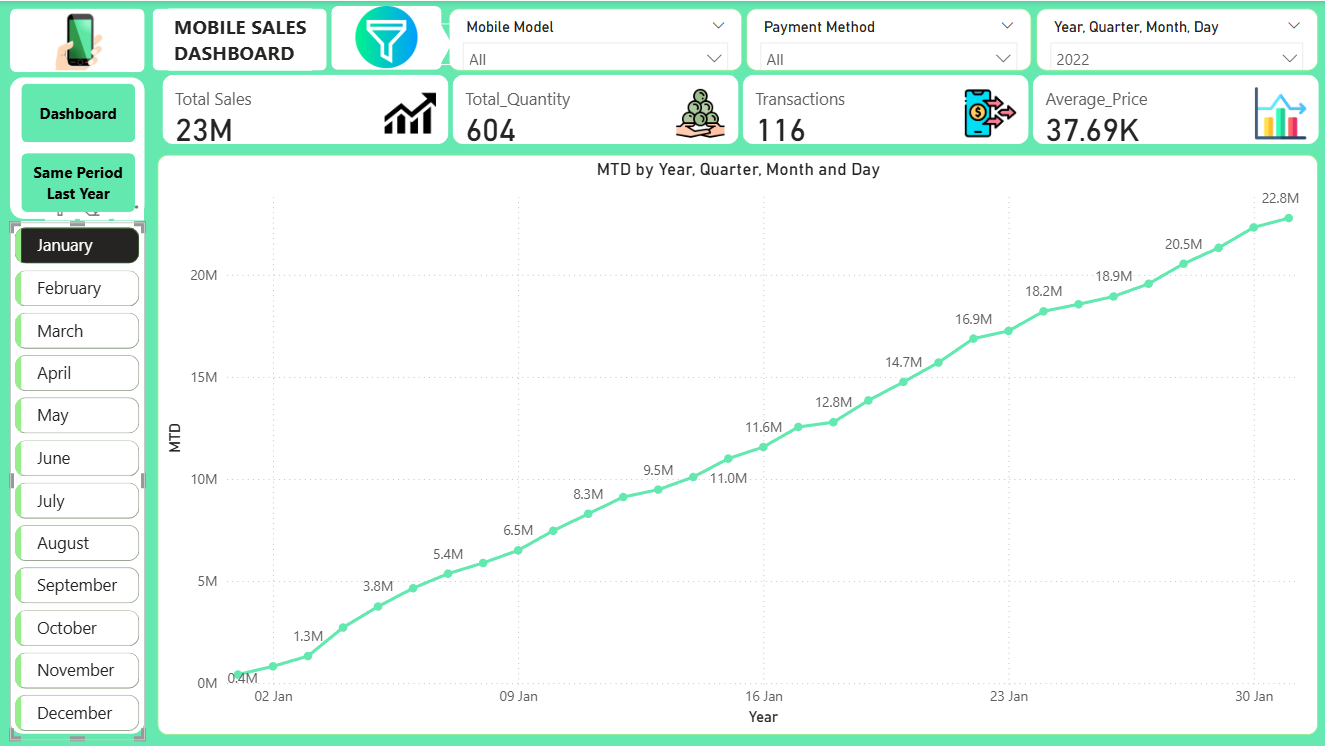

The dashboard page shown, as its layout file describes it:
{"tool":"powerbi","page":{"name":"MTD Report","canvas":[1280,720],"ordinal":1},"visuals":[{"type":"shape","box":[10,6.7,130,61.7],"z":0},{"type":"image","box":[32,6,88,66],"z":1000},{"type":"shape","box":[10,73.3,130,136.7],"z":2000},{"type":"cardVisual","fields":{"Data":["Sales-Data.Total Sales","Sales-Data.Total_Quantity","Sales-Data.Transactions","Sales-Data.Average_Price"]},"box":[151.7,71.7,1128.3,70],"z":3000},{"type":"slicer","fields":{"Values":["Sales-Data.Mobile Model"]},"box":[433.3,6.7,283.3,60],"z":4000},{"type":"slicer","fields":{"Values":["Sales-Data.Payment Method"]},"box":[720,6.7,275,60],"z":5000},{"type":"slicer","fields":{"Values":["Custom_Calender.Date.Variation.Date Hierarchy.Year","Custom_Calender.Date.Variation.Date Hierarchy.Quarter","Custom_Calender.Date.Variation.Date Hierarchy.Month","Custom_Calender.Date.Variation.Date Hierarchy.Day"]},"box":[1000,6.7,271.7,60],"z":6000},{"type":"shape","box":[320,5,106.7,61.7],"z":7000},{"type":"image","box":[331.7,0,81.7,70],"z":8000},{"type":"shape","box":[413.3,21.7,23.3,40],"z":9000},{"type":"shape","box":[146.7,6.7,168.3,60],"z":10000},{"type":"textbox","box":[163.3,6.7,138.3,60],"z":11000},{"type":"lineChart","fields":{"Category":["Custom_Calender.Date.Variation.Date Hierarchy.Year","Custom_Calender.Date.Variation.Date Hierarchy.Quarter","Custom_Calender.Date.Variation.Date Hierarchy.Month","Custom_Calender.Date.Variation.Date Hierarchy.Day"],"Y":["Sales-Data.MTD"]},"box":[152,148,1120,560],"z":12000},{"type":"shape","box":[10,212.5,130,495],"z":13000},{"type":"advancedSlicerVisual","fields":{"Values":["Custom_Calender.Date.Variation.Date Hierarchy.Month"]},"box":[10,213.3,130,500],"z":14000},{"type":"pageNavigator","box":[20,80,110,124],"z":15000}]}

Visuals, with their boxes in screenshot pixels (x1, y1, x2, y2), scaled from the page's 1280x720 canvas onto the 1325x746 screenshot:
shape: <box>10,7,145,71</box>
image: <box>33,6,124,75</box>
shape: <box>10,76,145,218</box>
cardVisual - Sales-Data.Total Sales x Sales-Data.Total_Quantity: <box>157,74,1324,147</box>
slicer - Sales-Data.Mobile Model: <box>449,7,742,69</box>
slicer - Sales-Data.Payment Method: <box>745,7,1030,69</box>
slicer - Custom_Calender.Date.Variation.Date Hierarchy.Year x Custom_Calender.Date.Variation.Date Hierarchy.Quarter: <box>1035,7,1316,69</box>
shape: <box>331,5,442,69</box>
image: <box>343,0,428,73</box>
shape: <box>428,22,452,64</box>
shape: <box>152,7,326,69</box>
textbox: <box>169,7,312,69</box>
lineChart - Custom_Calender.Date.Variation.Date Hierarchy.Year x Custom_Calender.Date.Variation.Date Hierarchy.Quarter: <box>157,153,1317,734</box>
shape: <box>10,220,145,733</box>
advancedSlicerVisual - Custom_Calender.Date.Variation.Date Hierarchy.Month: <box>10,221,145,739</box>
pageNavigator: <box>21,83,135,211</box>
